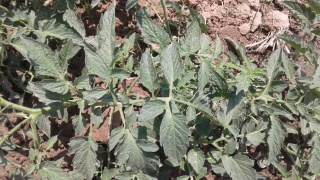tomato plant: (150, 34, 314, 180), (15, 3, 125, 100)
